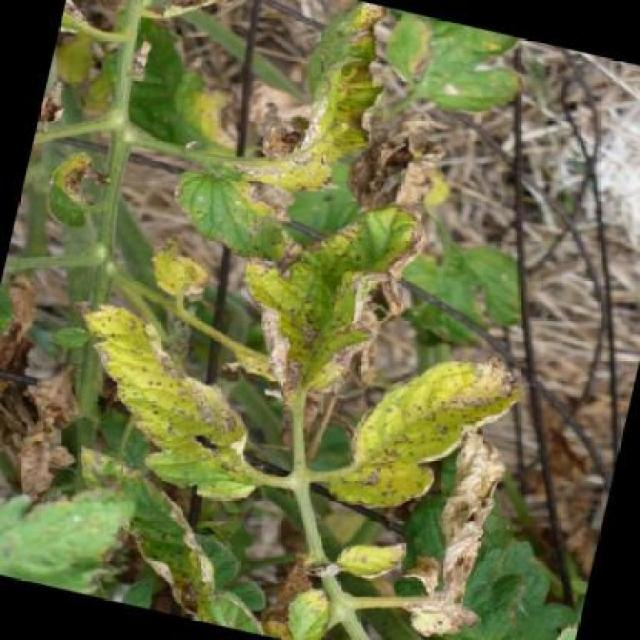Septoria leaf spot: (133, 0, 404, 271), (28, 285, 308, 517), (215, 178, 437, 416), (309, 328, 509, 535)
